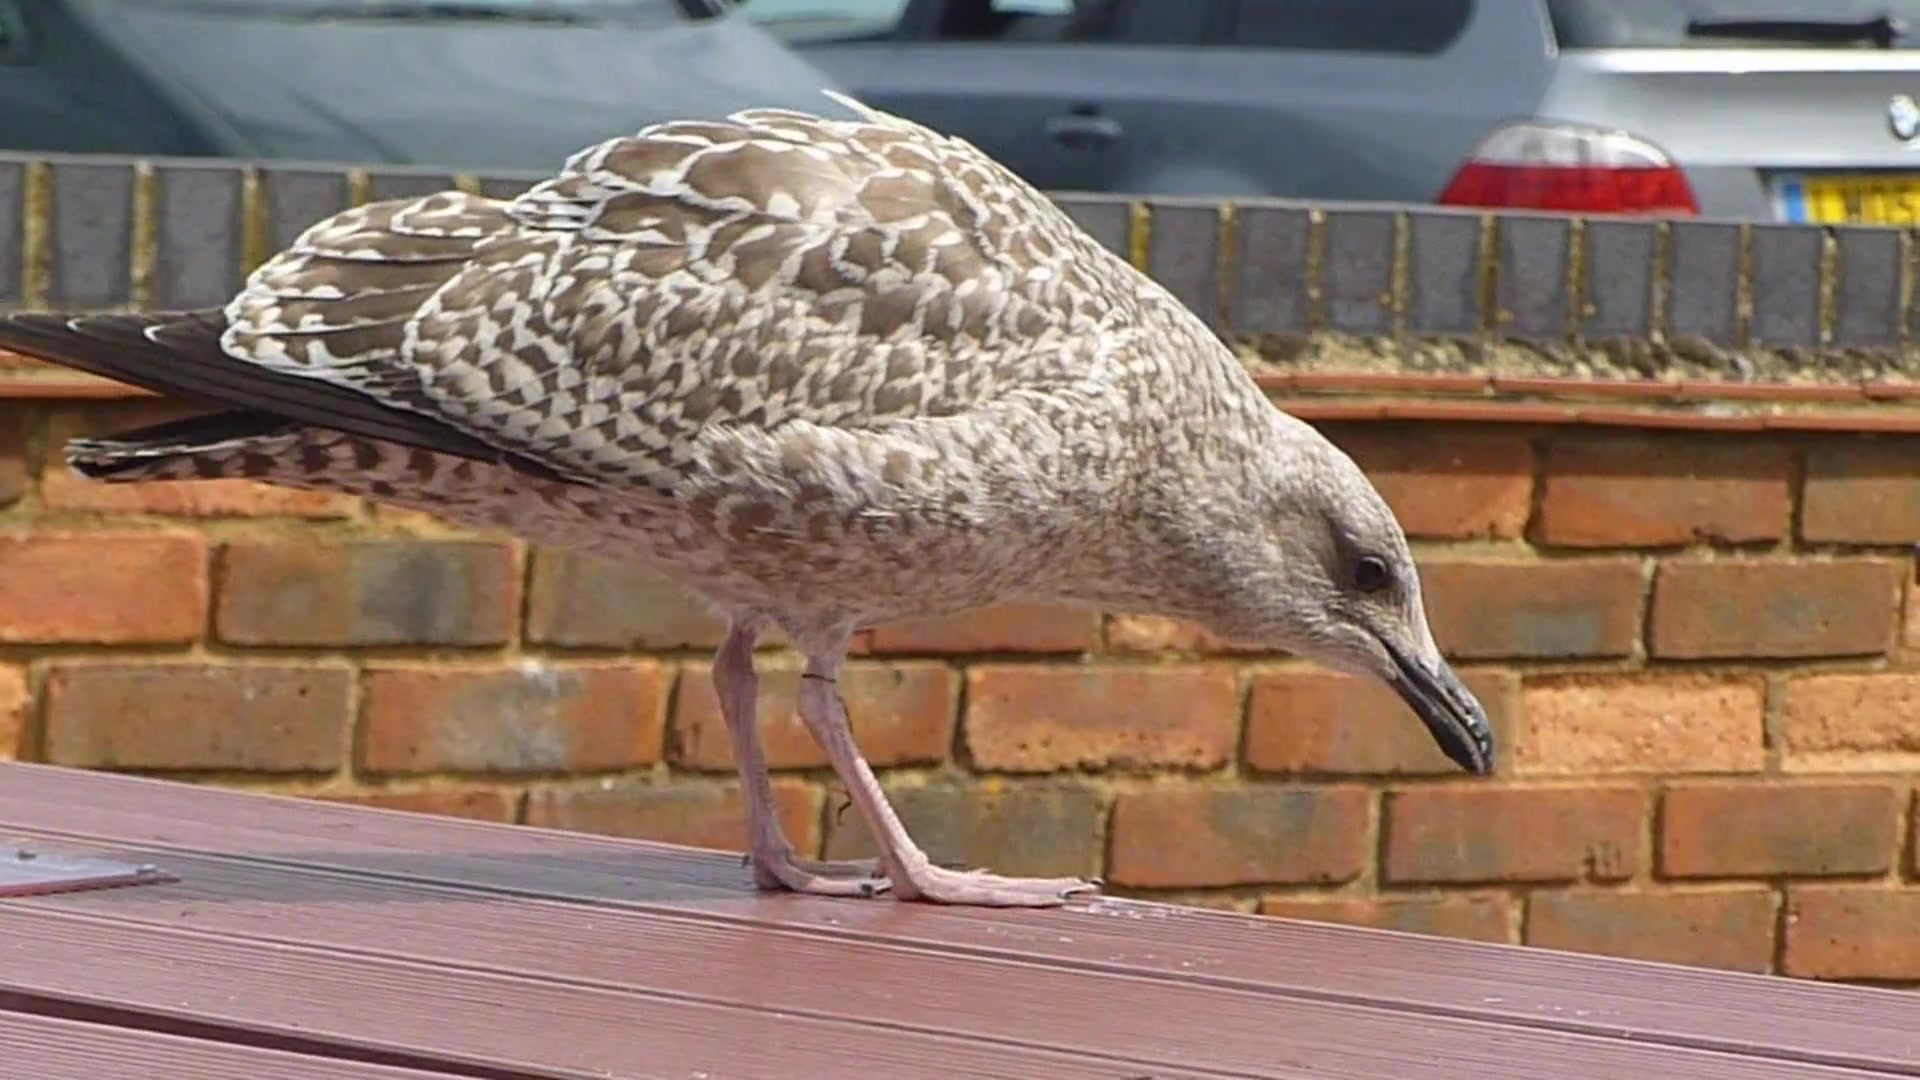bird: (1, 86, 1498, 913)
